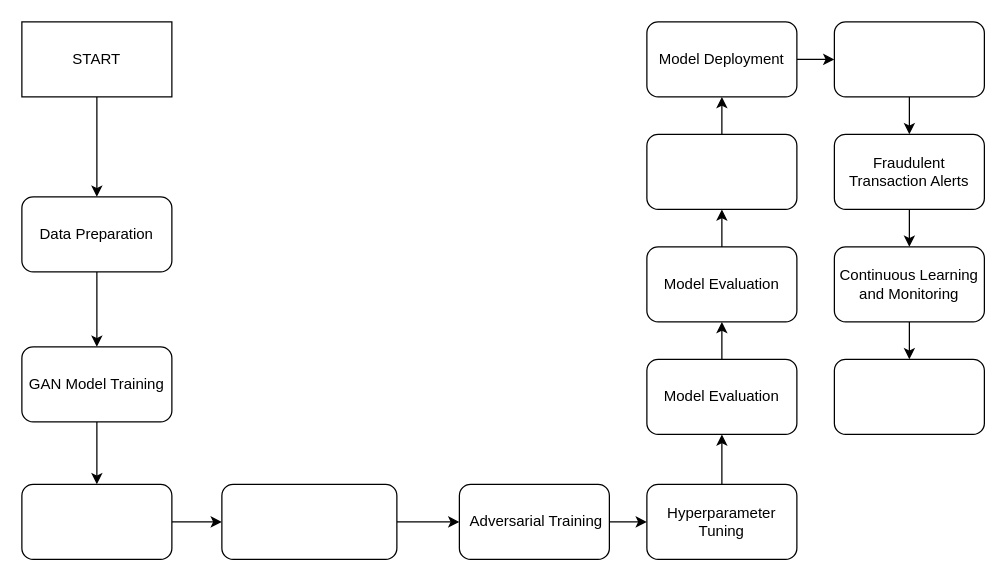
This 1006x581 diagram has some shape labels left out. The shapes that lost their labels are listed below. From the top down, each one's box as (x1, y1, x2, y2) in pixels, then its label:
(833, 21, 984, 97): Real-time Monitoring
(646, 133, 797, 209): Accuracy
(833, 358, 984, 434): End
(21, 483, 172, 559): Generator Network
(221, 483, 397, 559): Discriminator Network
